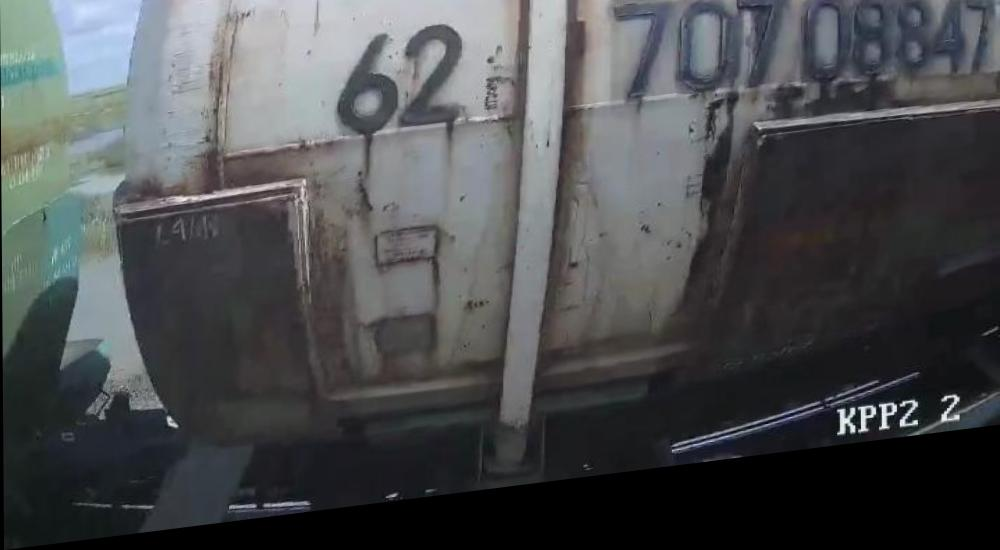Wagon-number: (609, 0, 998, 137)
